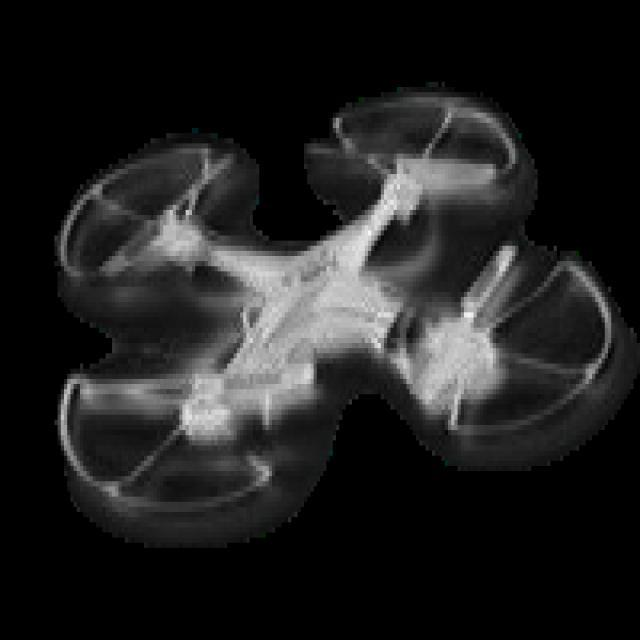drone: (47, 56, 632, 546)
